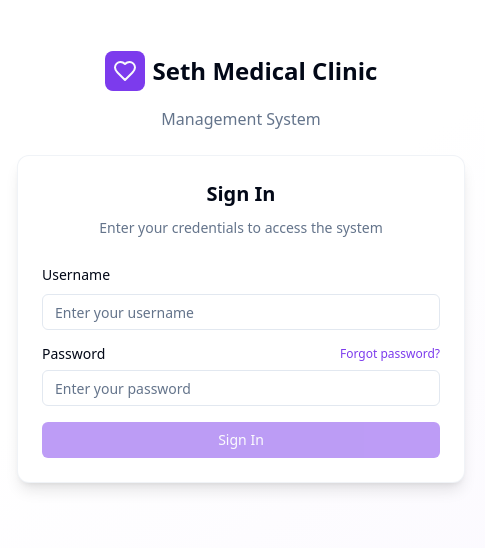
Login Page › shows error message on failed login
Type "admin" into the field with placeholder "Enter your username" at coordinates (241, 312), box [42,294,440,330]
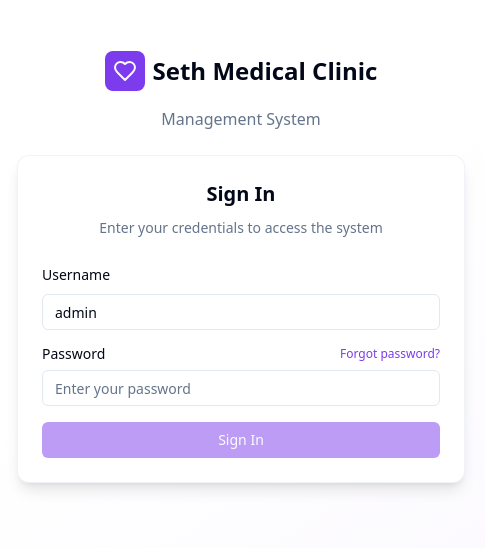
Type "wrong" into the password field with placeholder "Enter your password" at coordinates (241, 388), box [42,370,440,406]
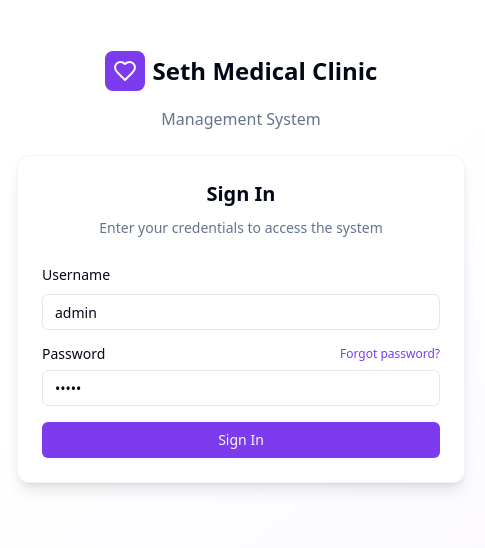
Click the button "Sign In" at coordinates (241, 440), box [42,422,440,458]
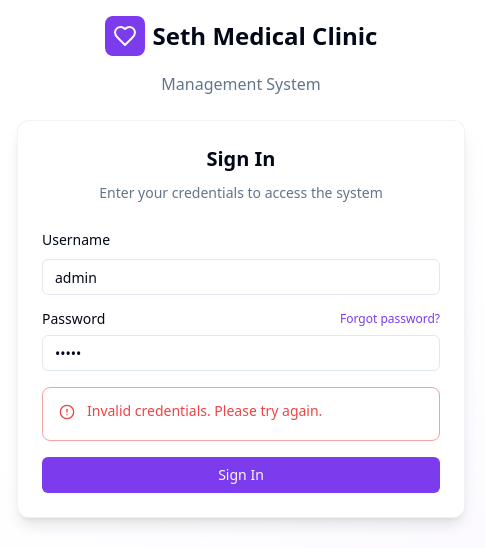
Expected: the text "Invalid credentials. Please try again." is shown, [87,401,322,420]
